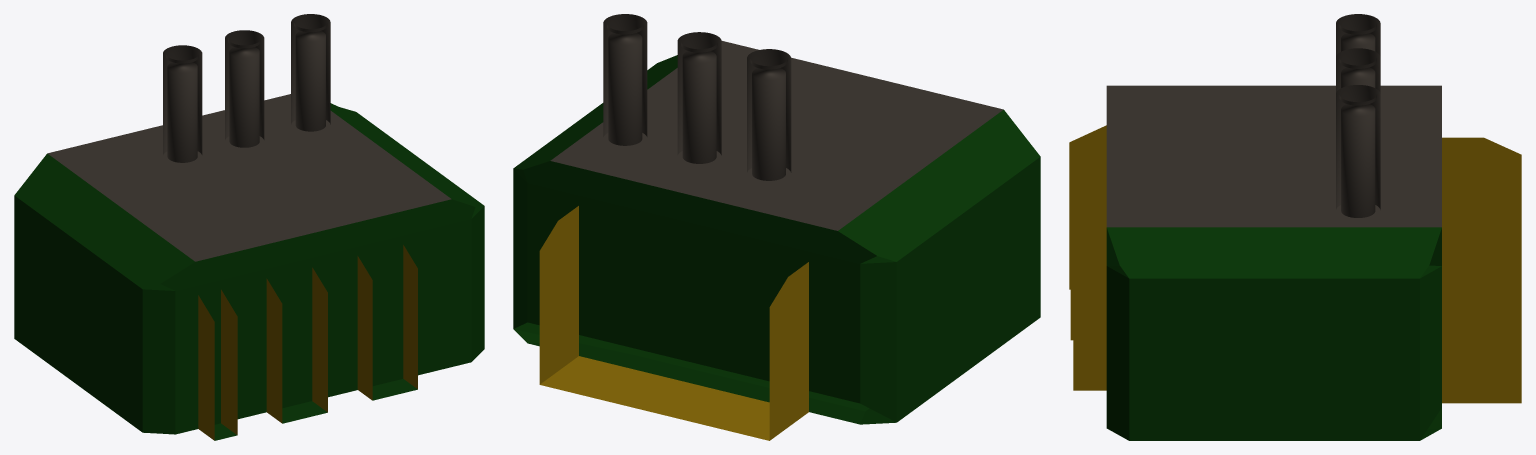
File: hub_green_lvl3.glb
3 views of the same model, side by side, from view 1: azimuth 30°, elevation 25°; view 2: azimuth 150°, elevation 25°; view 3: azimuth 270°, elevation 25° (orthographic). The views are drawn at different scales.
Visible parts, largest first — view 1: Cube, Cylinder.001, Cylinder.003, Cylinder.004; view 2: Cube, Cylinder.003, Cylinder.001, Cylinder.004; view 3: Cube, Cylinder.001, Cylinder.003, Cylinder.004.
Part boxes in pixels (x1=…): Cube: x1=14, y1=94, x2=484, y2=440; Cylinder.001: x1=291, y1=14, x2=330, y2=131; Cylinder.003: x1=225, y1=30, x2=264, y2=147; Cylinder.004: x1=163, y1=45, x2=202, y2=162; Cube: x1=513, y1=41, x2=1040, y2=440; Cylinder.003: x1=677, y1=32, x2=721, y2=163; Cylinder.001: x1=603, y1=14, x2=647, y2=145; Cylinder.004: x1=747, y1=49, x2=791, y2=180; Cube: x1=1069, y1=85, x2=1521, y2=440; Cylinder.001: x1=1336, y1=85, x2=1380, y2=217; Cylinder.003: x1=1336, y1=48, x2=1380, y2=93; Cylinder.004: x1=1336, y1=14, x2=1380, y2=56.
Bounding box in the file's own units: 8 × 6.3 × 8.09.
